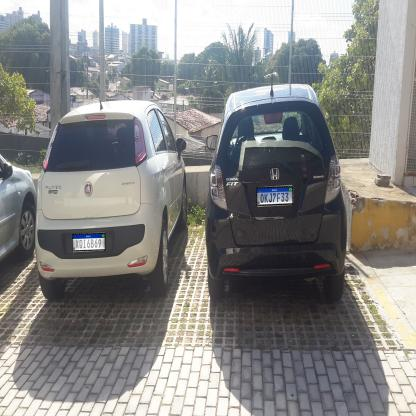PlacaM: (257, 186, 293, 206), (72, 233, 105, 251)
